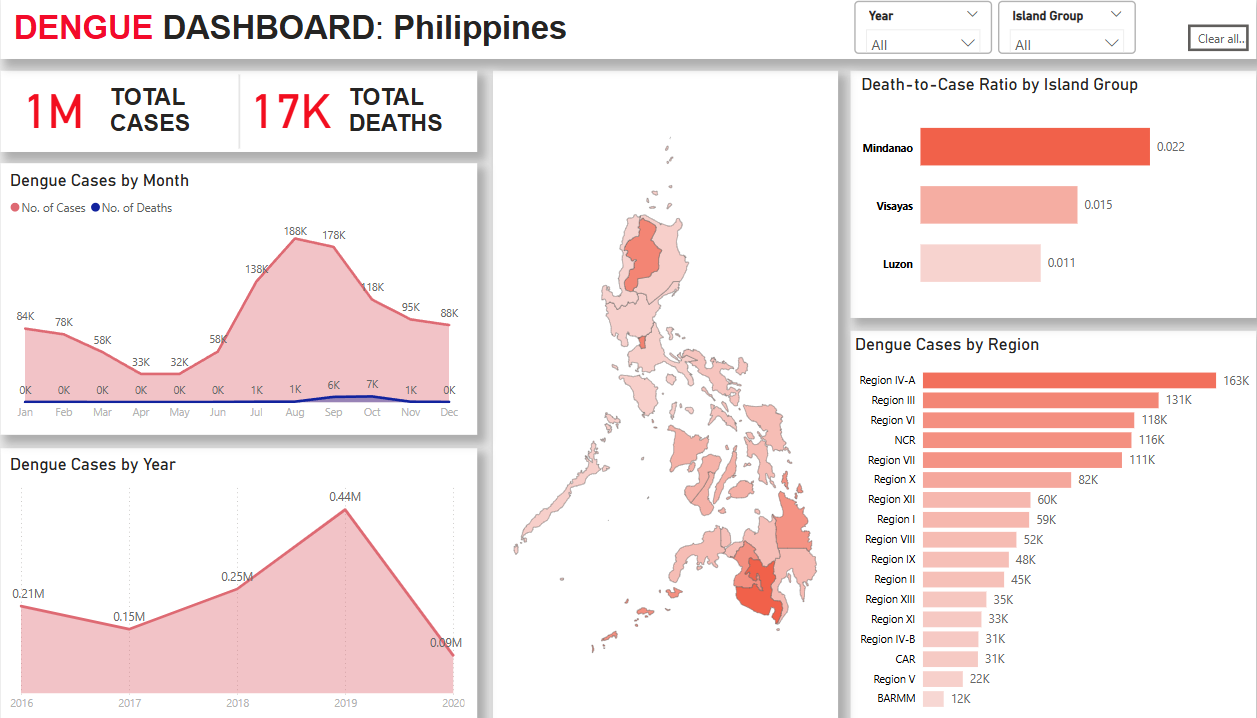

The page's visual inventory and layout, read from the dashboard file:
{"tool":"powerbi","page":{"name":"Page 1","canvas":[1500,1000],"ordinal":0},"visuals":[{"type":"shape","box":[991.9,495.9,463.8,443.5],"z":0},{"type":"shape","box":[991.9,198,463.8,282.7],"z":1000},{"type":"shape","box":[19.9,198.5,545,93.1],"z":2000},{"type":"shape","box":[582.3,198,394.4,741.4],"z":3000},{"type":"shape","box":[20.3,629.7,545,309.8],"z":4000},{"type":"shape","box":[19.5,304.7,545,310],"z":5000},{"type":"areaChart","title":"Dengue Cases by Month","fields":{"Category":["ph_dengue_cases2016-2020.short month name"],"Y":["Sum(ph_dengue_cases2016-2020.Dengue_Cases)","Sum(ph_dengue_cases2016-2020.Dengue_Deaths)"]},"box":[25.4,313.1,529.8,294.5],"z":6000},{"type":"card","fields":{"Values":["Sum(ph_dengue_cases2016-2020.Dengue_Cases)"]},"box":[19.5,198,120.2,79.6],"z":7000},{"type":"card","fields":{"Values":["Sum(ph_dengue_cases2016-2020.Dengue_Deaths)"]},"box":[292,198,120.2,79.6],"z":8000},{"type":"areaChart","title":"Dengue Cases by Year","fields":{"Y":["Sum(ph_dengue_cases2016-2020.Dengue_Cases)"],"Category":["ph_dengue_cases2016-2020.Year"]},"box":[25.4,636.4,529.8,303],"z":9000},{"type":"barChart","title":"Dengue Cases by Region","fields":{"Y":["Sum(ph_dengue_cases2016-2020.Dengue_Cases)"],"Category":["ph_dengue_cases2016-2020.Region"]},"box":[991.9,499.3,463.8,440.1],"z":10000},{"type":"barChart","fields":{"Category":["ph_dengue_cases2016-2020.Island Group"],"Y":["ph_dengue_cases2016-2020.D2C ratio"]},"box":[998.7,203.1,448.6,272.5],"z":11000},{"type":"shapeMap","fields":{"Category":["ph_dengue_cases2016-2020.Region id"],"Value":["ph_dengue_cases2016-2020.D2C ratio"]},"box":[582.3,198,394.4,741.4],"z":12000},{"type":"textbox","box":[139.7,208.2,121.9,79.6],"z":13000},{"type":"textbox","box":[412.5,208,142,81.2],"z":14000},{"type":"shape","box":[278,202.7,28.8,84.6],"z":15000},{"type":"shape","box":[20.3,115.1,1435.4,69.4],"z":16000},{"type":"textbox","box":[30.5,123.6,660.1,55.9],"z":17000},{"type":"slicer","fields":{"Values":["ph_dengue_cases2016-2020.Year"]},"box":[995.6,118.5,157.4,60.9],"z":18000},{"type":"slicer","fields":{"Values":["ph_dengue_cases2016-2020.Island Group"]},"box":[1159.8,118,157.4,60.9],"z":19000},{"type":"actionButton","box":[1377.8,145.6,69.4,30.5],"z":20000}]}

Visuals, with their boxes on the page's 1500x1000 design canvas (x1, y1, x2, y2). These are canvas units, not pixel positions in the 1257x718 screenshot, which may show the page scaled, cropped or inside an application window:
shape: locate(992, 496, 1456, 939)
shape: locate(992, 198, 1456, 481)
shape: locate(20, 198, 565, 292)
shape: locate(582, 198, 977, 939)
shape: locate(20, 630, 565, 940)
shape: locate(20, 305, 564, 615)
"Dengue Cases by Month" areaChart: locate(25, 313, 555, 608)
card - Sum(ph_dengue_cases2016-2020.Dengue_Cases): locate(20, 198, 140, 278)
card - Sum(ph_dengue_cases2016-2020.Dengue_Deaths): locate(292, 198, 412, 278)
"Dengue Cases by Year" areaChart: locate(25, 636, 555, 939)
"Dengue Cases by Region" barChart: locate(992, 499, 1456, 939)
barChart - ph_dengue_cases2016-2020.Island Group x ph_dengue_cases2016-2020.D2C ratio: locate(999, 203, 1447, 476)
shapeMap - ph_dengue_cases2016-2020.Region id x ph_dengue_cases2016-2020.D2C ratio: locate(582, 198, 977, 939)
textbox: locate(140, 208, 262, 288)
textbox: locate(412, 208, 554, 289)
shape: locate(278, 203, 307, 287)
shape: locate(20, 115, 1456, 184)
textbox: locate(30, 124, 691, 180)
slicer - ph_dengue_cases2016-2020.Year: locate(996, 118, 1153, 179)
slicer - ph_dengue_cases2016-2020.Island Group: locate(1160, 118, 1317, 179)
actionButton: locate(1378, 146, 1447, 176)
